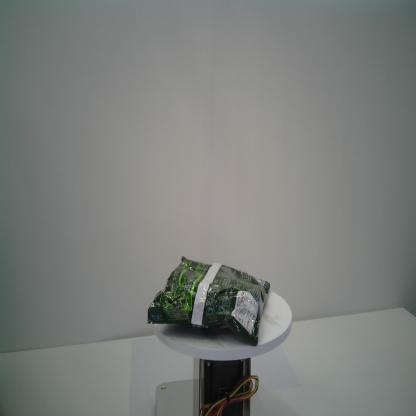Instant Noodles: (145, 254, 271, 349)
